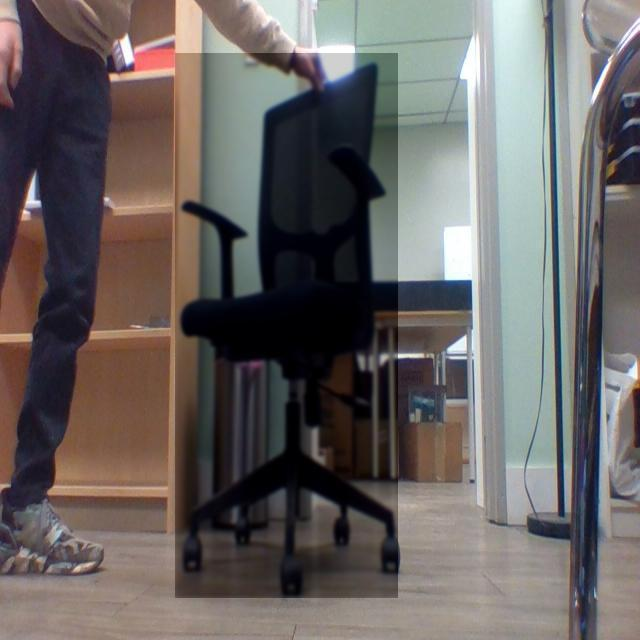chair: (161, 61, 416, 603)
light: (280, 37, 375, 117), (451, 33, 488, 90)
table: (305, 281, 473, 480)
